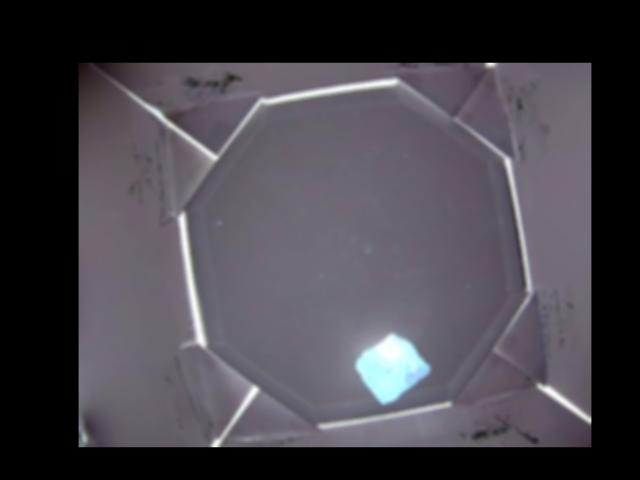Brisk: (354, 331, 431, 404)
